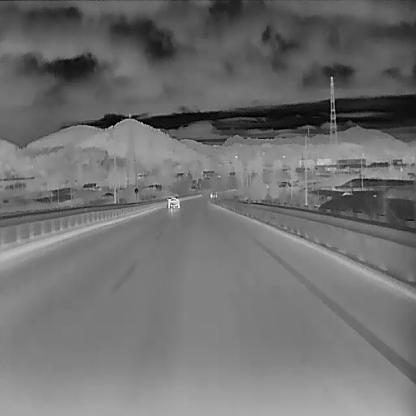car: (166, 194, 180, 208), (210, 190, 217, 198)
